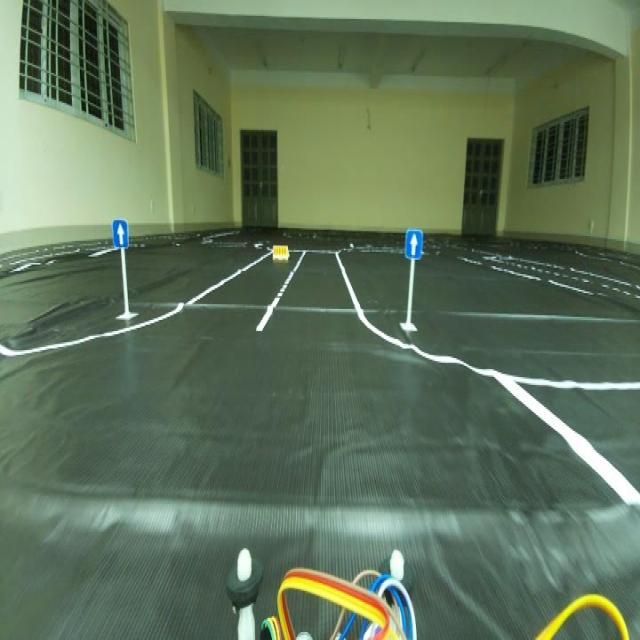onewayroad: (404, 222, 424, 263), (111, 218, 129, 254)
roadblock: (273, 242, 288, 259)
